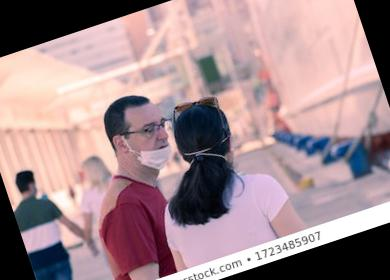mask_weared_incorrect: (121, 110, 180, 175)
